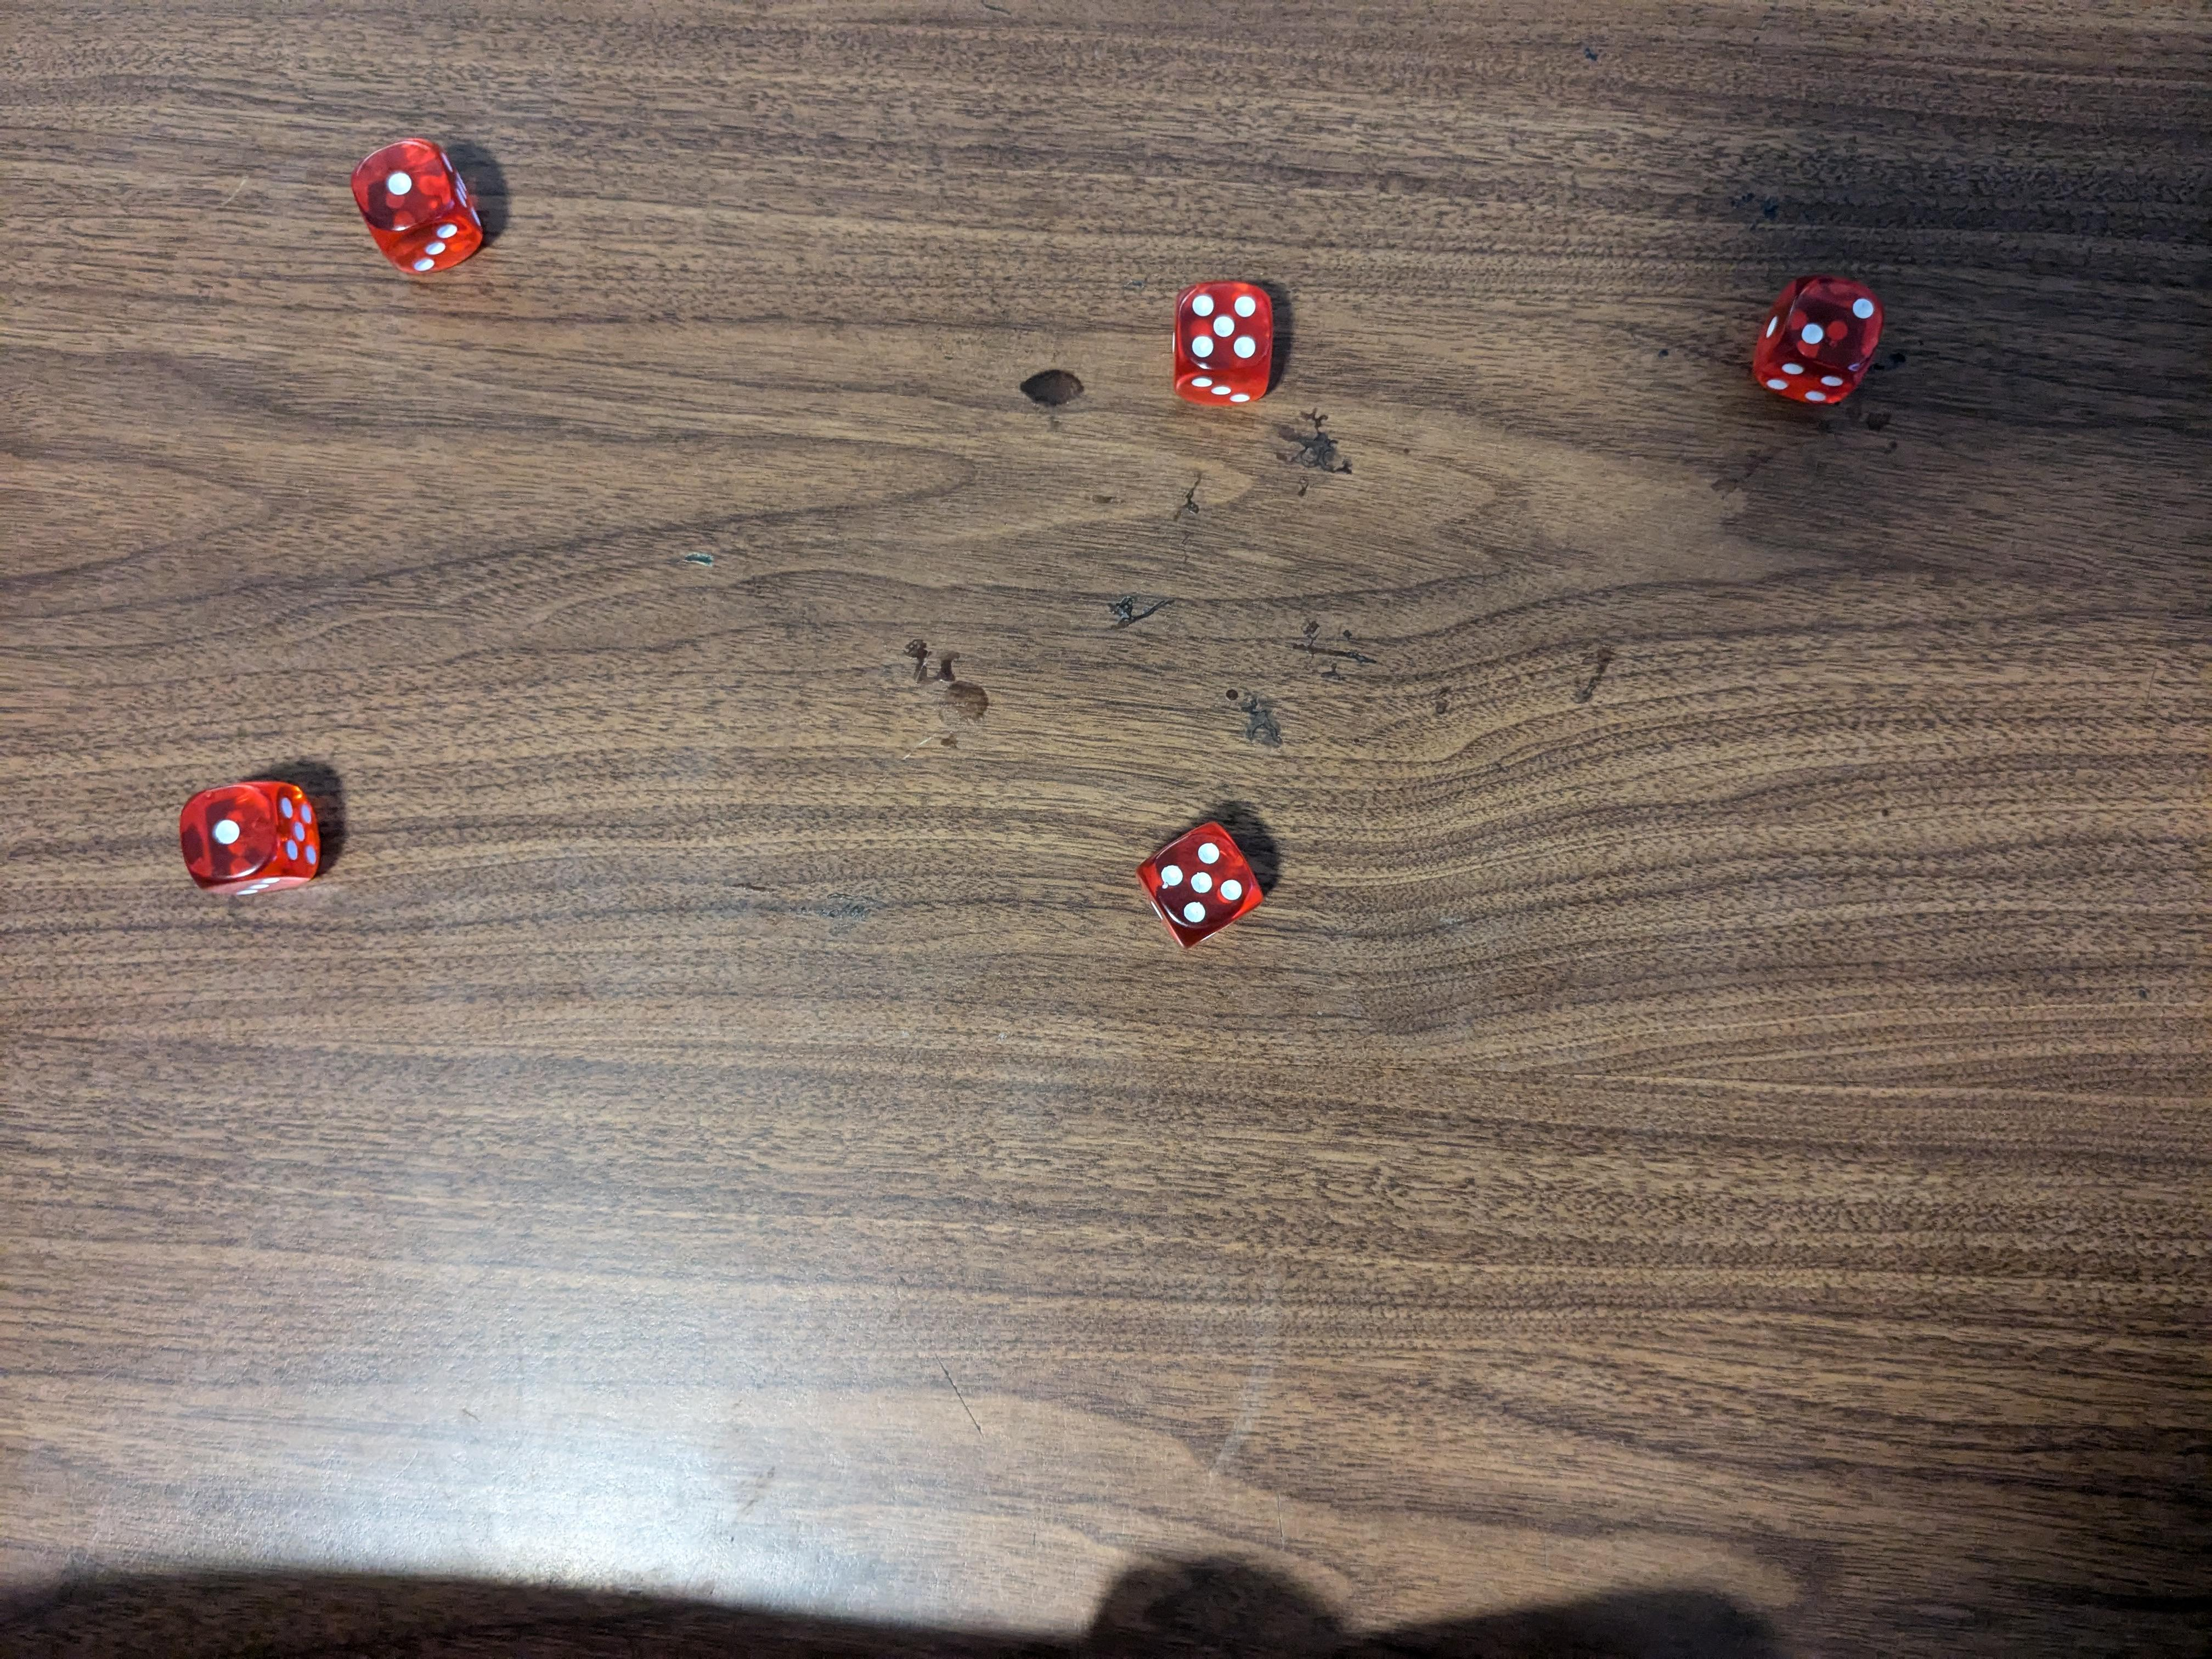five: (1134, 821, 1270, 946), (1170, 281, 1277, 406)
one: (345, 129, 484, 272), (178, 777, 319, 901)
two: (1752, 274, 1885, 404)
